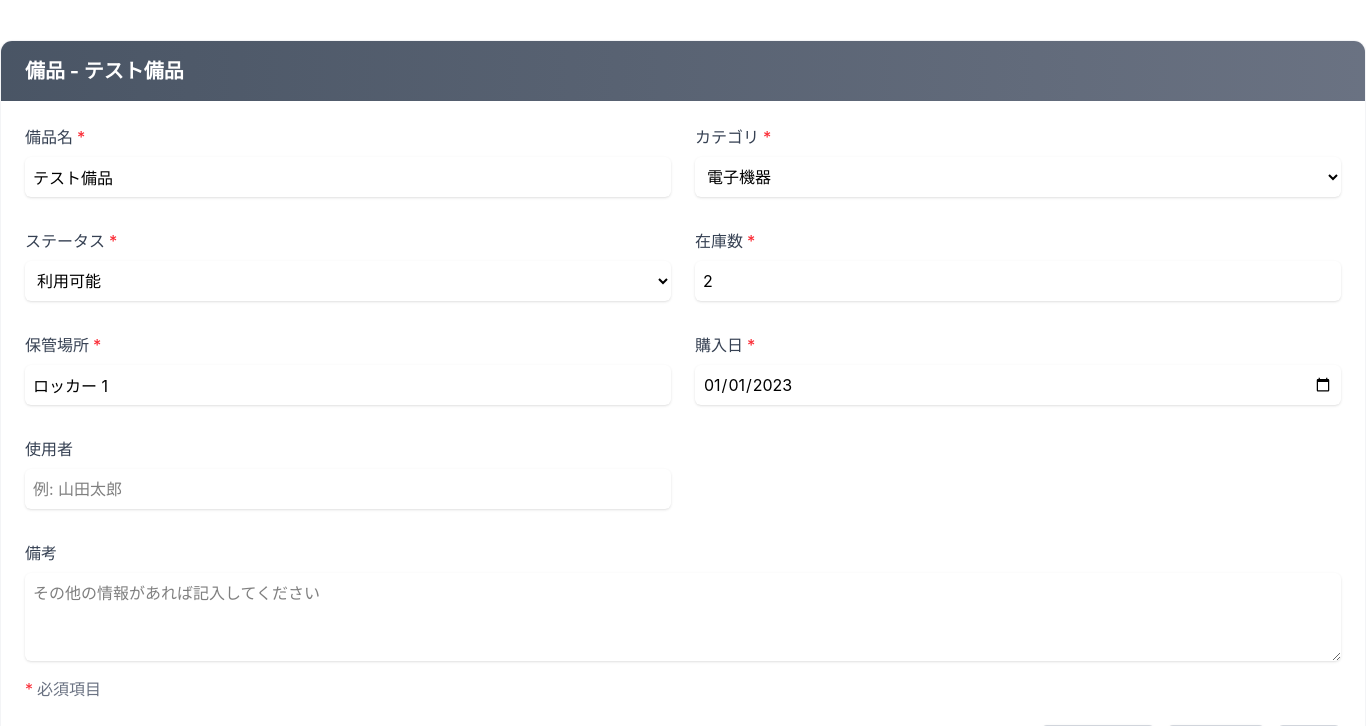
it: EditEquipmentForm コンポーネント › フォームバリデーション › 必須フィールドのバリデーション › 購入日が空の場合にエラーメッセージが表示される
Clear the date field labelled "購入日*" at coordinates (1018, 385), box [695,365,1341,405]
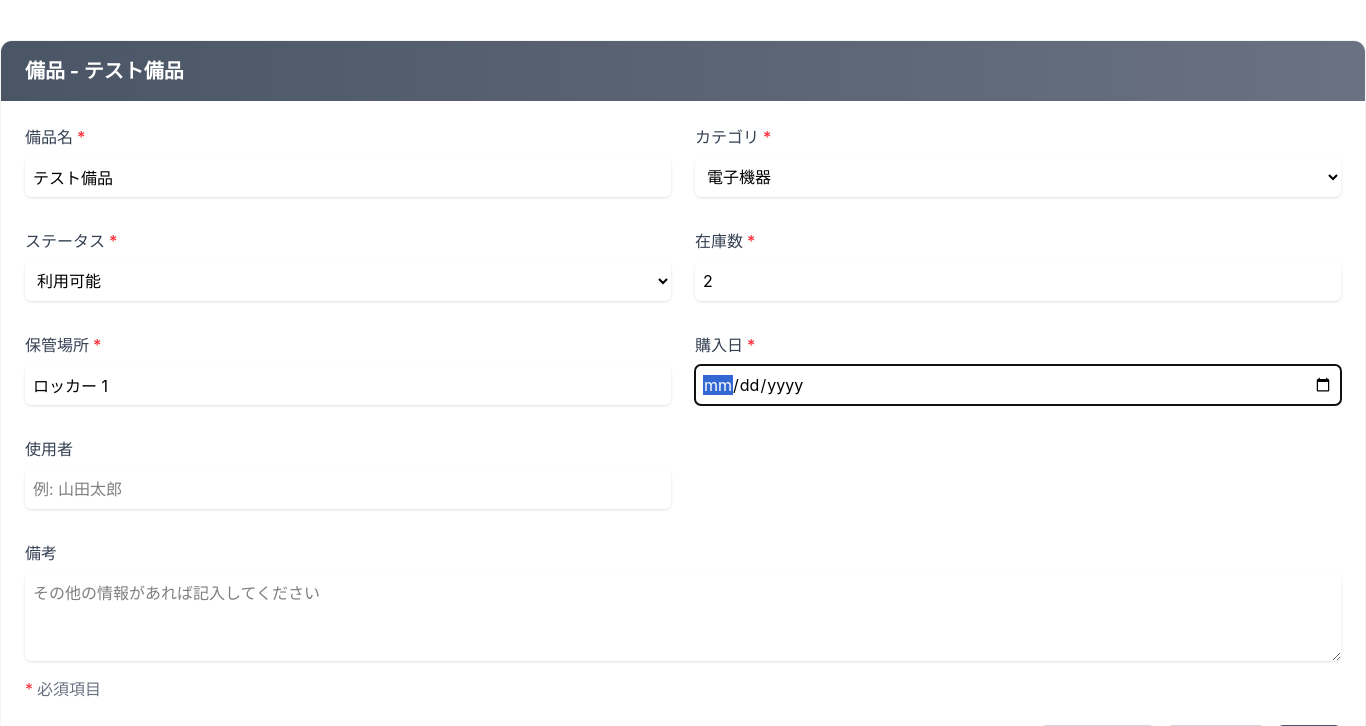
Press Tab
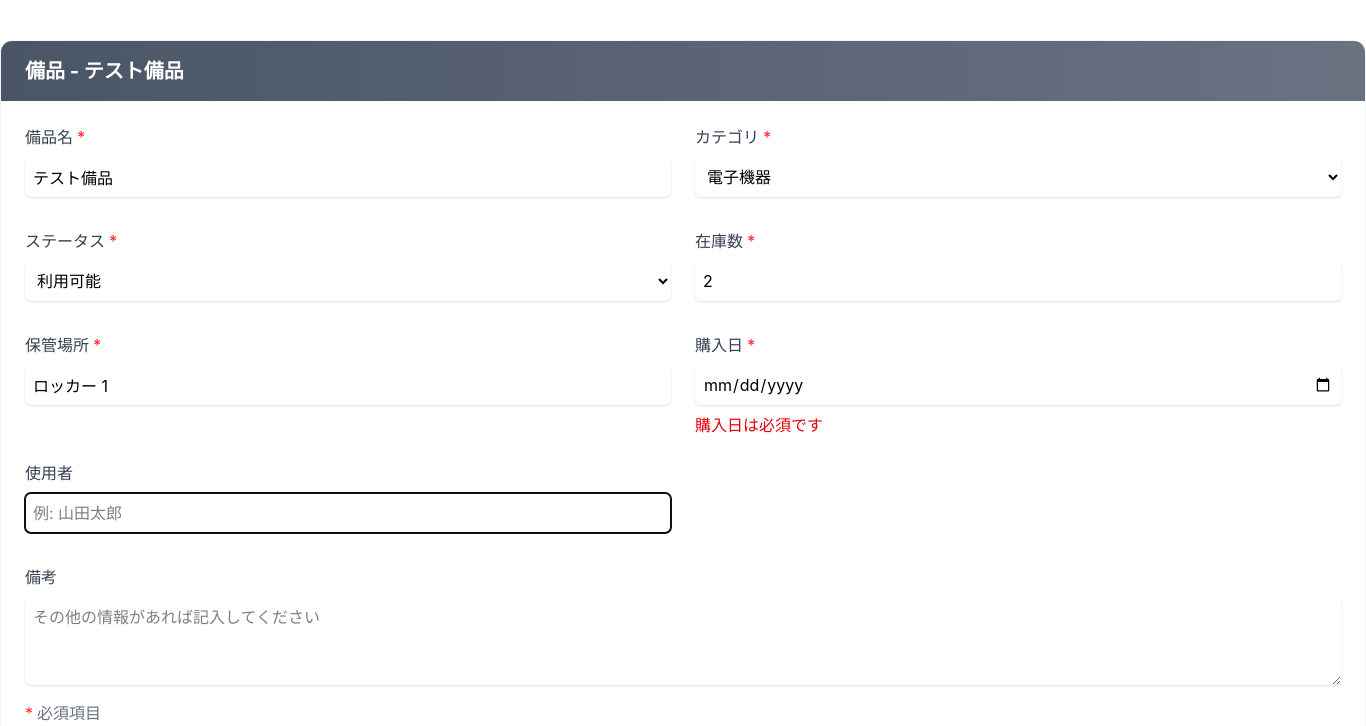
Expected: the text "購入日は必須です" is shown, [695,415,823,435]
